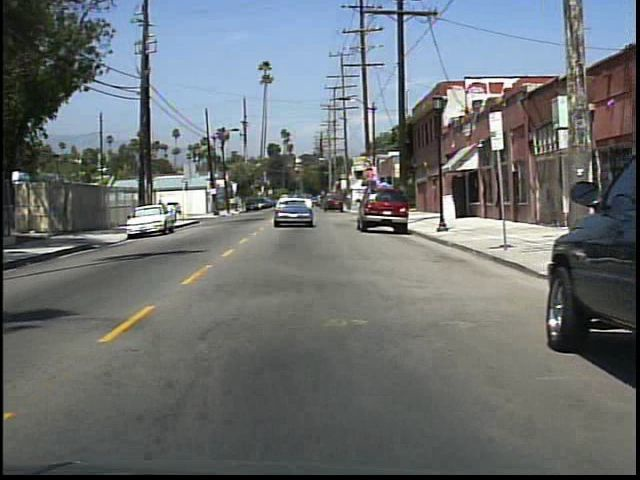person: (169, 199, 182, 224)
